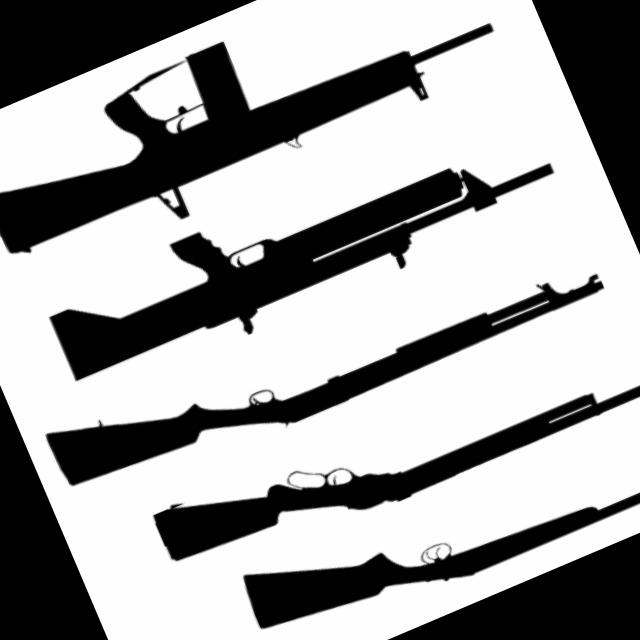Weapon: (34, 203, 619, 531), (16, 79, 578, 413), (0, 0, 526, 296), (132, 308, 640, 606), (229, 394, 640, 640)
